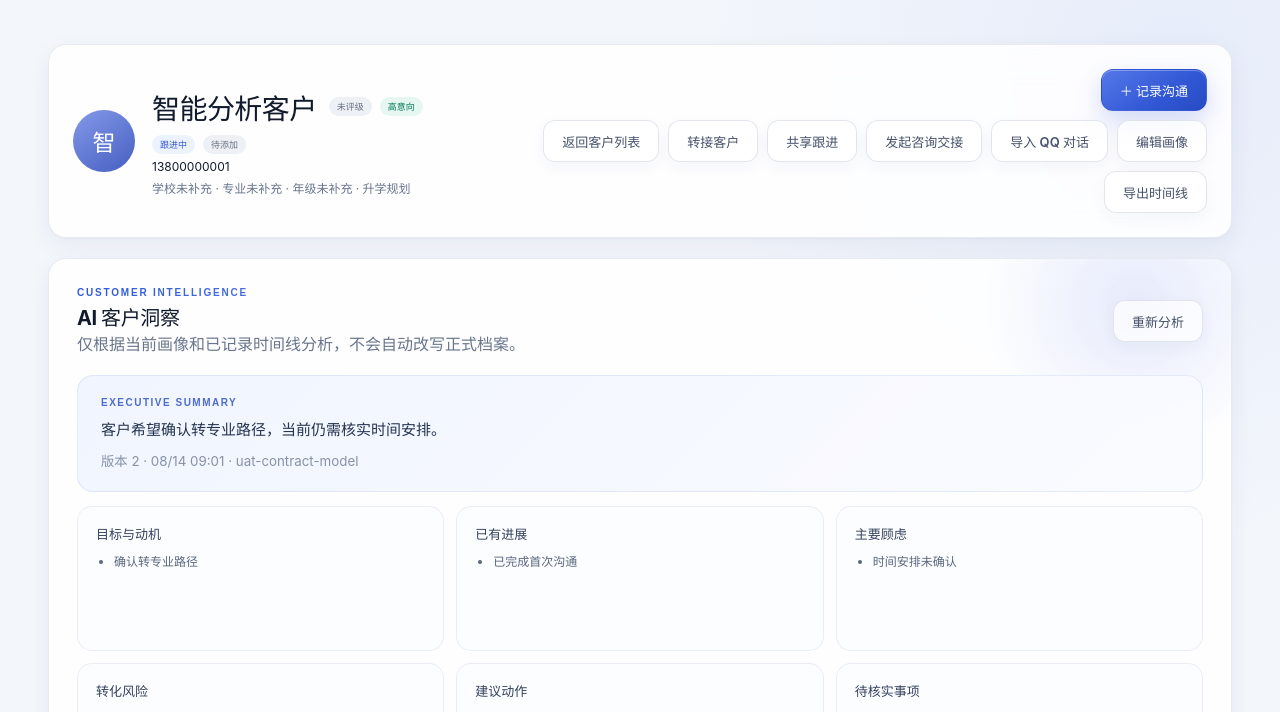
large mocked workflow views › renders versioned read-only customer intelligence and queues an explicit reanalysis
The image size is (1280, 712).
Expected: the element with test id "customer-intelligence" shows "AI 客户洞察", x1=77 y1=306 x2=180 y2=330
Click the button "重新分析".
click(1158, 321)  # box x1=1113 y1=300 x2=1203 y2=342
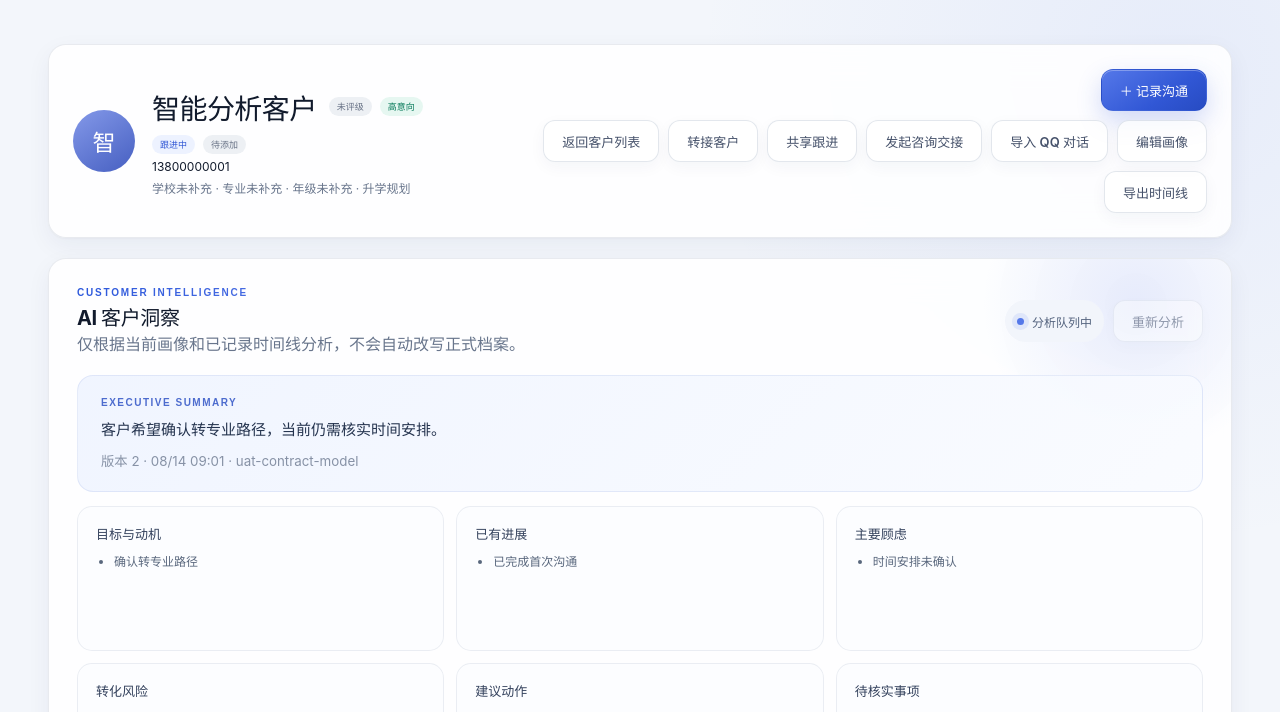
Expected: the text "分析队列中" is shown, x1=1005 y1=300 x2=1104 y2=342
